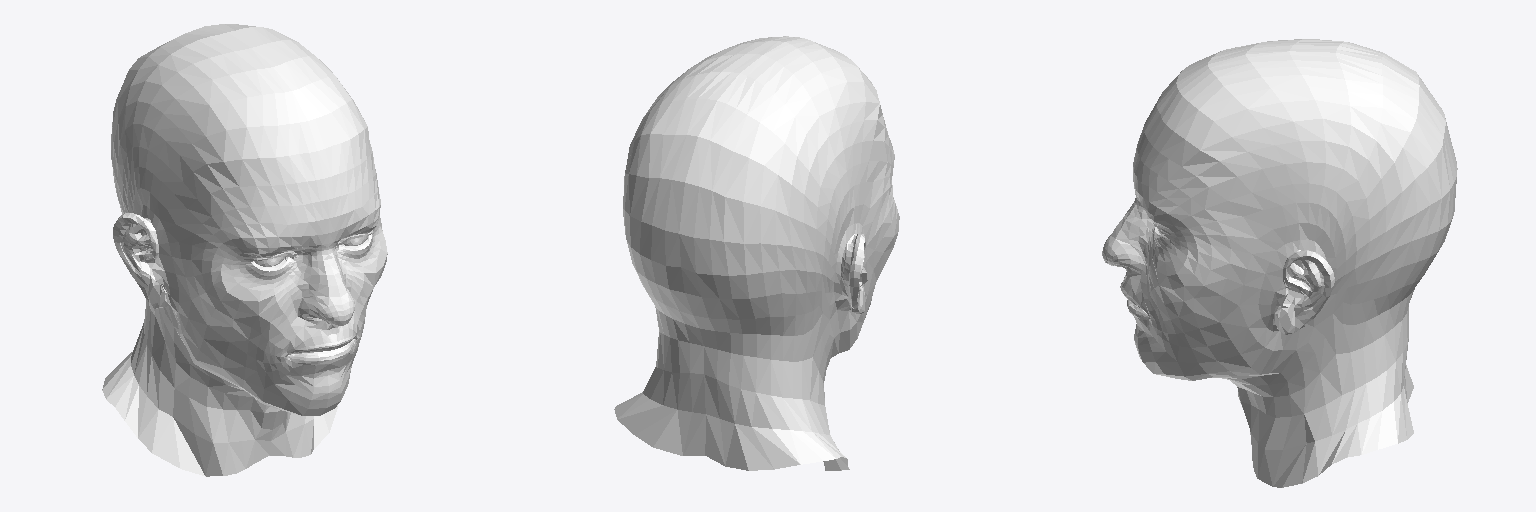
3 views of the same model, side by side, from view 1: azimuth 30°, elevation 25°; view 2: azimuth 150°, elevation 25°; view 3: azimuth 270°, elevation 25° (orthographic).
Visible parts, largest first — view 1: head-brow, head-upper-skull, neck, l-head-temple, neck-upper, l-head-zygoma, l-head-cheek, head-back-skull, l-eye-upper-middle-or, l-jaw, l-ear-inner, l-head-maxilla (+23 smaller); view 2: head-back-skull, head-upper-skull, neck, neck-upper, l-head-temple, head-brow, l-ear-tubercle, l-jaw, l-ear-helix; view 3: head-back-skull, head-upper-skull, neck-upper, neck, head-brow, r-head-temple, r-head-cheek, r-jaw, r-head-zygoma, r-ear-inner, r-eye-upper-outer-orb, r-head-cheek-arc (+10 smaller).
Part boxes in pixels (left/top/right/bottom): head-brow: left=178, top=75, right=372, bottom=198; head-upper-skull: left=123, top=24, right=333, bottom=140; neck: left=102, top=323, right=337, bottom=476; l-head-temple: left=139, top=125, right=212, bottom=275; neck-upper: left=144, top=299, right=279, bottom=412; l-head-zygoma: left=194, top=242, right=307, bottom=333; l-head-cheek: left=179, top=291, right=289, bottom=371; head-back-skull: left=111, top=71, right=149, bottom=214; l-eye-upper-middle-or: left=237, top=206, right=298, bottom=253; l-jaw: left=169, top=306, right=263, bottom=402; l-ear-inner: left=124, top=224, right=178, bottom=296; l-head-maxilla: left=262, top=280, right=314, bottom=353; head-back-skull: left=623, top=112, right=854, bottom=319; head-upper-skull: left=635, top=36, right=852, bottom=174; neck: left=614, top=367, right=849, bottom=470; neck-upper: left=646, top=291, right=836, bottom=405; l-head-temple: left=835, top=121, right=890, bottom=245; head-brow: left=815, top=42, right=884, bottom=160; l-ear-tubercle: left=834, top=253, right=862, bottom=311; l-jaw: left=831, top=296, right=870, bottom=357; l-ear-helix: left=840, top=223, right=865, bottom=271; head-back-skull: left=1299, top=75, right=1457, bottom=312; head-upper-skull: left=1208, top=39, right=1419, bottom=168; neck-upper: left=1222, top=274, right=1424, bottom=417; neck: left=1250, top=339, right=1413, bottom=487; head-brow: left=1144, top=51, right=1273, bottom=200; r-head-temple: left=1207, top=145, right=1325, bottom=273; r-head-cheek: left=1147, top=286, right=1260, bottom=347; r-jaw: left=1178, top=328, right=1295, bottom=380; r-head-zygoma: left=1146, top=215, right=1226, bottom=304; r-ear-inner: left=1259, top=261, right=1321, bottom=323; r-eye-upper-outer-orb: left=1157, top=189, right=1225, bottom=236; r-head-cheek-arc: left=1211, top=257, right=1264, bottom=305.
Bounding box in the file's own units: 1.75 × 2.9 × 2.28.